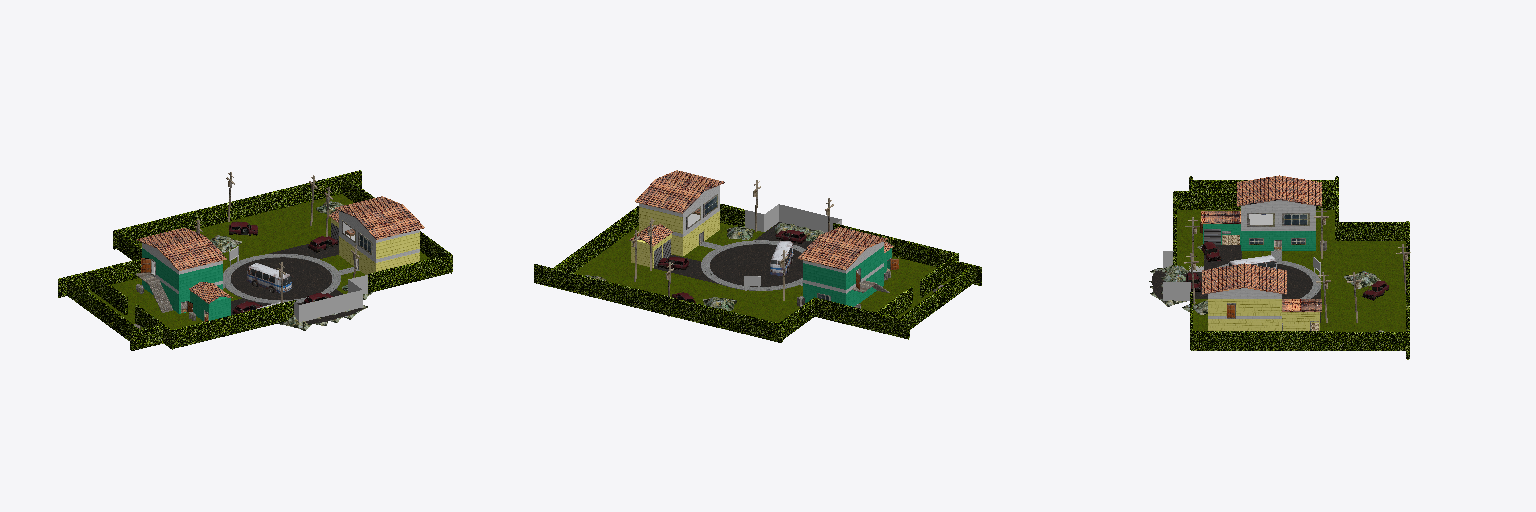
3 views of the same model, side by side, from view 1: azimuth 30°, elevation 25°; view 2: azimuth 150°, elevation 25°; view 3: azimuth 270°, elevation 25° (orthographic).
Parts seen in each view (by area): view 1: Plane, Cube, Cube.013, Circle, Plane.022, Plane.058, Plane_Plane.013, Plane_Plane.003, Plane_Plane.001, Circle.001, Plane_Plane.016, Plane_Plane.005 (+9 smaller); view 2: Plane, Cube.013, Cube, Circle, Plane.058, Plane.022, Plane_Plane.003, Plane_Plane.015, Plane_Plane.014, Plane_Plane.016, Plane_Plane.017, Plane_Plane.007 (+11 smaller); view 3: Plane, Cube.013, Cube, Plane.058, Plane.022, Plane_Plane.020, Plane_Plane.021, Plane_Plane.019, Plane_Plane.008, Plane_Plane.004, Circle, Plane_Plane.003.
Part boxes in pixels (left/top/right/bottom): Plane: left=88, top=194, right=429, bottom=331; Cube: left=142, top=243, right=230, bottom=321; Cube.013: left=331, top=211, right=419, bottom=274; Circle: left=231, top=257, right=331, bottom=299; Plane.022: left=334, top=196, right=424, bottom=239; Plane.058: left=136, top=228, right=226, bottom=270; Plane_Plane.013: left=368, top=254, right=450, bottom=292; Plane_Plane.003: left=294, top=275, right=367, bottom=322; Plane_Plane.001: left=170, top=315, right=233, bottom=348; Circle.001: left=223, top=254, right=340, bottom=303; Plane_Plane.016: left=239, top=185, right=301, bottom=218; Plane_Plane.005: left=233, top=300, right=295, bottom=333; Plane: left=574, top=223, right=951, bottom=322; Cube.013: left=631, top=185, right=719, bottom=267; Cube: left=803, top=242, right=891, bottom=306; Circle: left=710, top=244, right=802, bottom=286; Plane.058: left=798, top=227, right=887, bottom=270; Plane.022: left=635, top=170, right=724, bottom=213; Plane_Plane.003: left=745, top=204, right=841, bottom=232; Plane_Plane.015: left=656, top=294, right=718, bottom=327; Plane_Plane.014: left=719, top=309, right=782, bottom=342; Plane_Plane.016: left=594, top=279, right=656, bottom=312; Plane_Plane.017: left=534, top=264, right=596, bottom=297; Plane_Plane.007: left=814, top=297, right=876, bottom=330; Plane: left=1177, top=210, right=1405, bottom=331; Cube.013: left=1208, top=288, right=1319, bottom=330; Cube: left=1203, top=200, right=1315, bottom=250; Plane.058: left=1237, top=175, right=1321, bottom=206; Plane.022: left=1202, top=263, right=1286, bottom=294; Plane_Plane.020: left=1262, top=331, right=1335, bottom=350; Plane_Plane.021: left=1191, top=331, right=1263, bottom=350; Plane_Plane.019: left=1334, top=332, right=1406, bottom=350; Plane_Plane.008: left=1337, top=222, right=1409, bottom=240; Plane_Plane.004: left=1174, top=191, right=1240, bottom=209; Circle: left=1277, top=264, right=1312, bottom=298; Plane_Plane.003: left=1163, top=251, right=1190, bottom=300.
Size of the model in its own units: 66.84 by 12.23 by 44.82.
30 materials, 26 textured.